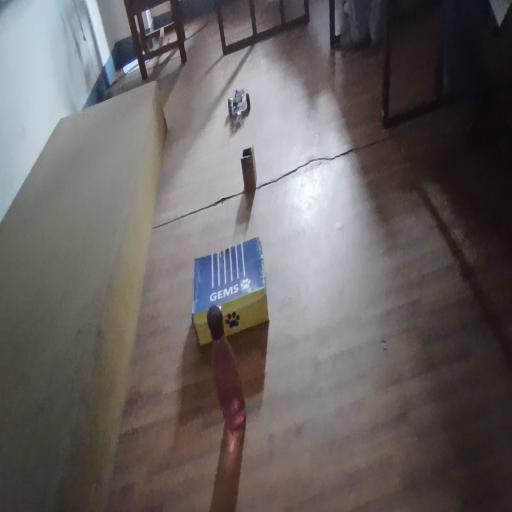Bottle: (201, 302, 285, 469)
car: (229, 85, 254, 133)
